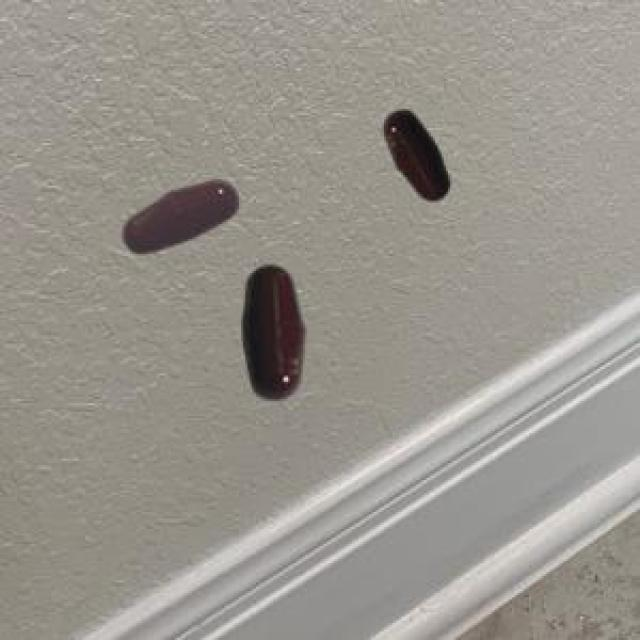DayZinc: (227, 258, 317, 416), (102, 172, 259, 262), (371, 94, 467, 214)
